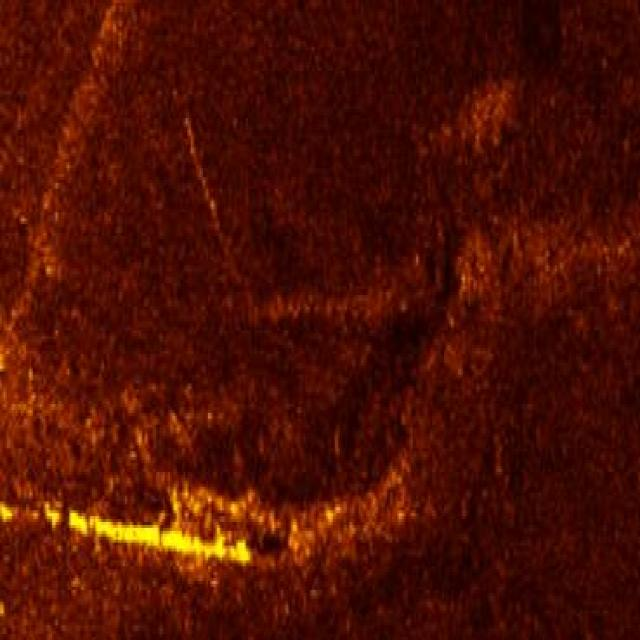other: (0, 487, 253, 578)
